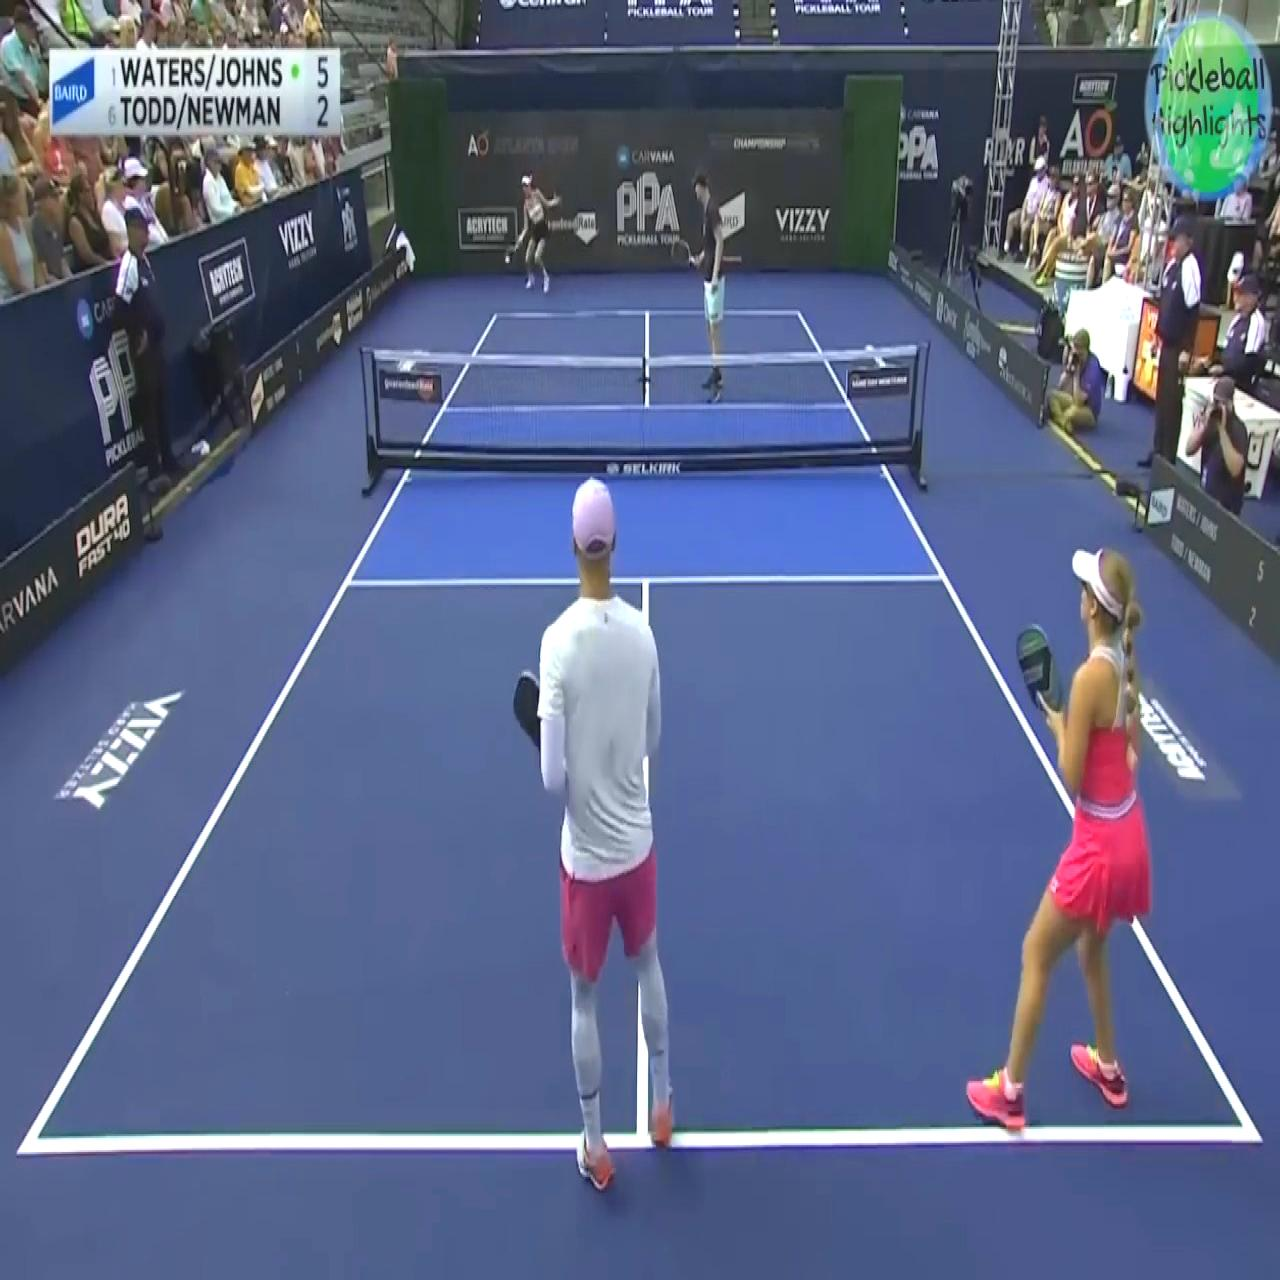Pickleball: (503, 250, 510, 267)
